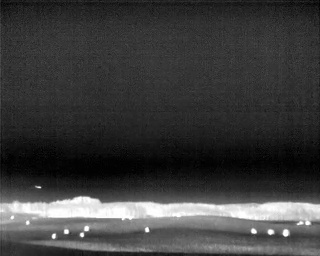AIRPLANE: (33, 183, 43, 192)
